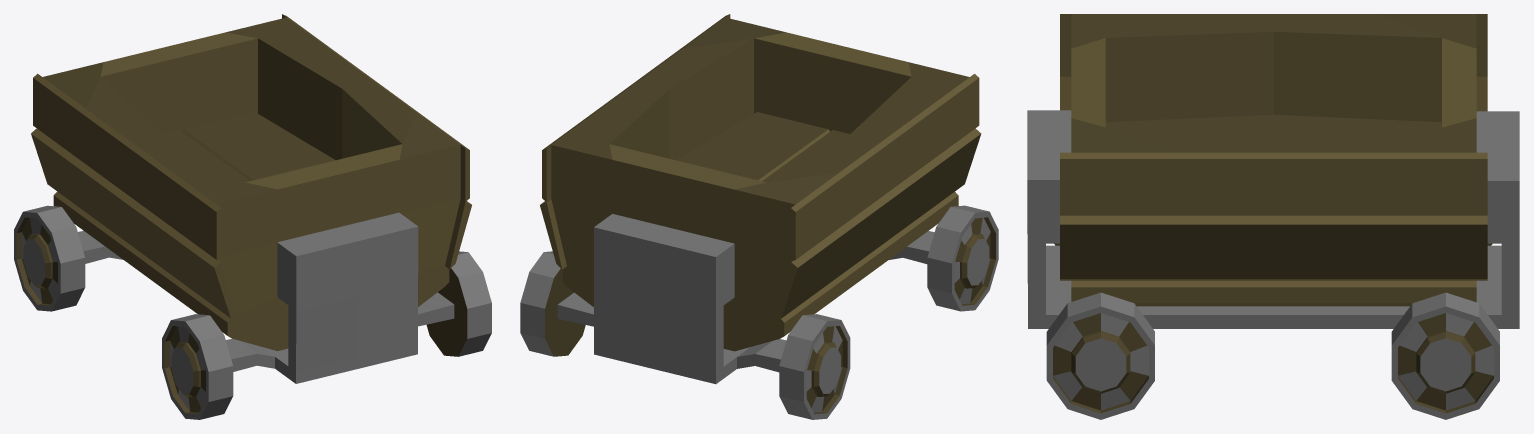
The model's file is minecart.fbx.
3 views of the same model, side by side, from view 1: azimuth 30°, elevation 25°; view 2: azimuth 150°, elevation 25°; view 3: azimuth 270°, elevation 25° (orthographic). The views are drawn at different scales.
Visible parts, largest first — view 1: Куб, Цилиндр, Цилиндр_2, Цилиндр_1; view 2: Куб, Цилиндр_2, Цилиндр, Цилиндр_3; view 3: Куб, Цилиндр_1, Цилиндр_3.
Part boxes in pixels (<box>): Куб: <box>31,14,471,383</box>; Цилиндр: <box>14,205,85,311</box>; Цилиндр_2: <box>162,314,233,419</box>; Цилиндр_1: <box>426,251,491,356</box>; Куб: <box>540,14,981,384</box>; Цилиндр_2: <box>927,205,998,311</box>; Цилиндр: <box>779,314,850,419</box>; Цилиндр_3: <box>520,251,585,356</box>; Куб: <box>1027,14,1519,328</box>; Цилиндр_1: <box>1046,292,1154,419</box>; Цилиндр_3: <box>1391,292,1499,419</box>.
Size of the model in its own units: 174 by 127 by 221.
